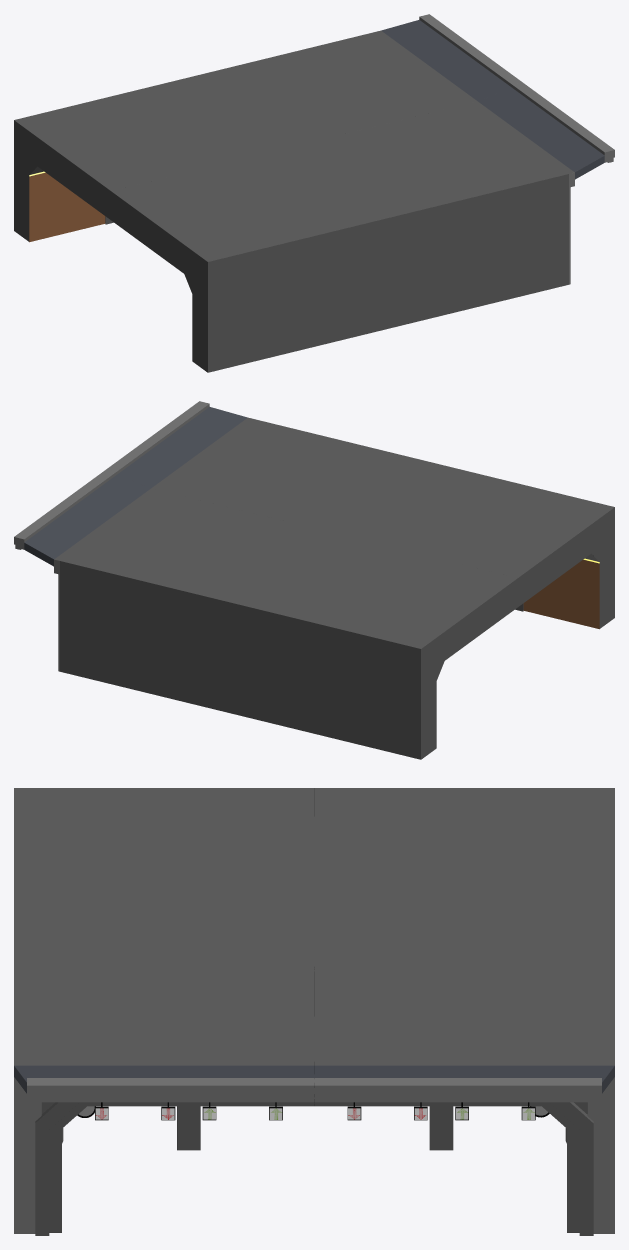
File: SM_LongTunnel2Wide.fbx
3 views of the same model, one above another, from view 1: azimuth 30°, elevation 25°; view 2: azimuth 150°, elevation 25°; view 3: azimuth 270°, elevation 25° (orthographic). The views are drawn at different scales.
Parts seen in each view (by area): view 1: Cube.030; view 2: Cube.030; view 3: Cube.030, Cube.037, Cube.010.
Part boxes in pixels (<box>): Cube.030: <box>14,14,614,372</box>; Cube.030: <box>14,401,614,759</box>; Cube.030: <box>14,788,614,1235</box>; Cube.037: <box>429,1106,453,1150</box>; Cube.010: <box>177,1106,200,1150</box>.
Size of the model in its own units: 2121 by 592 by 1732.
